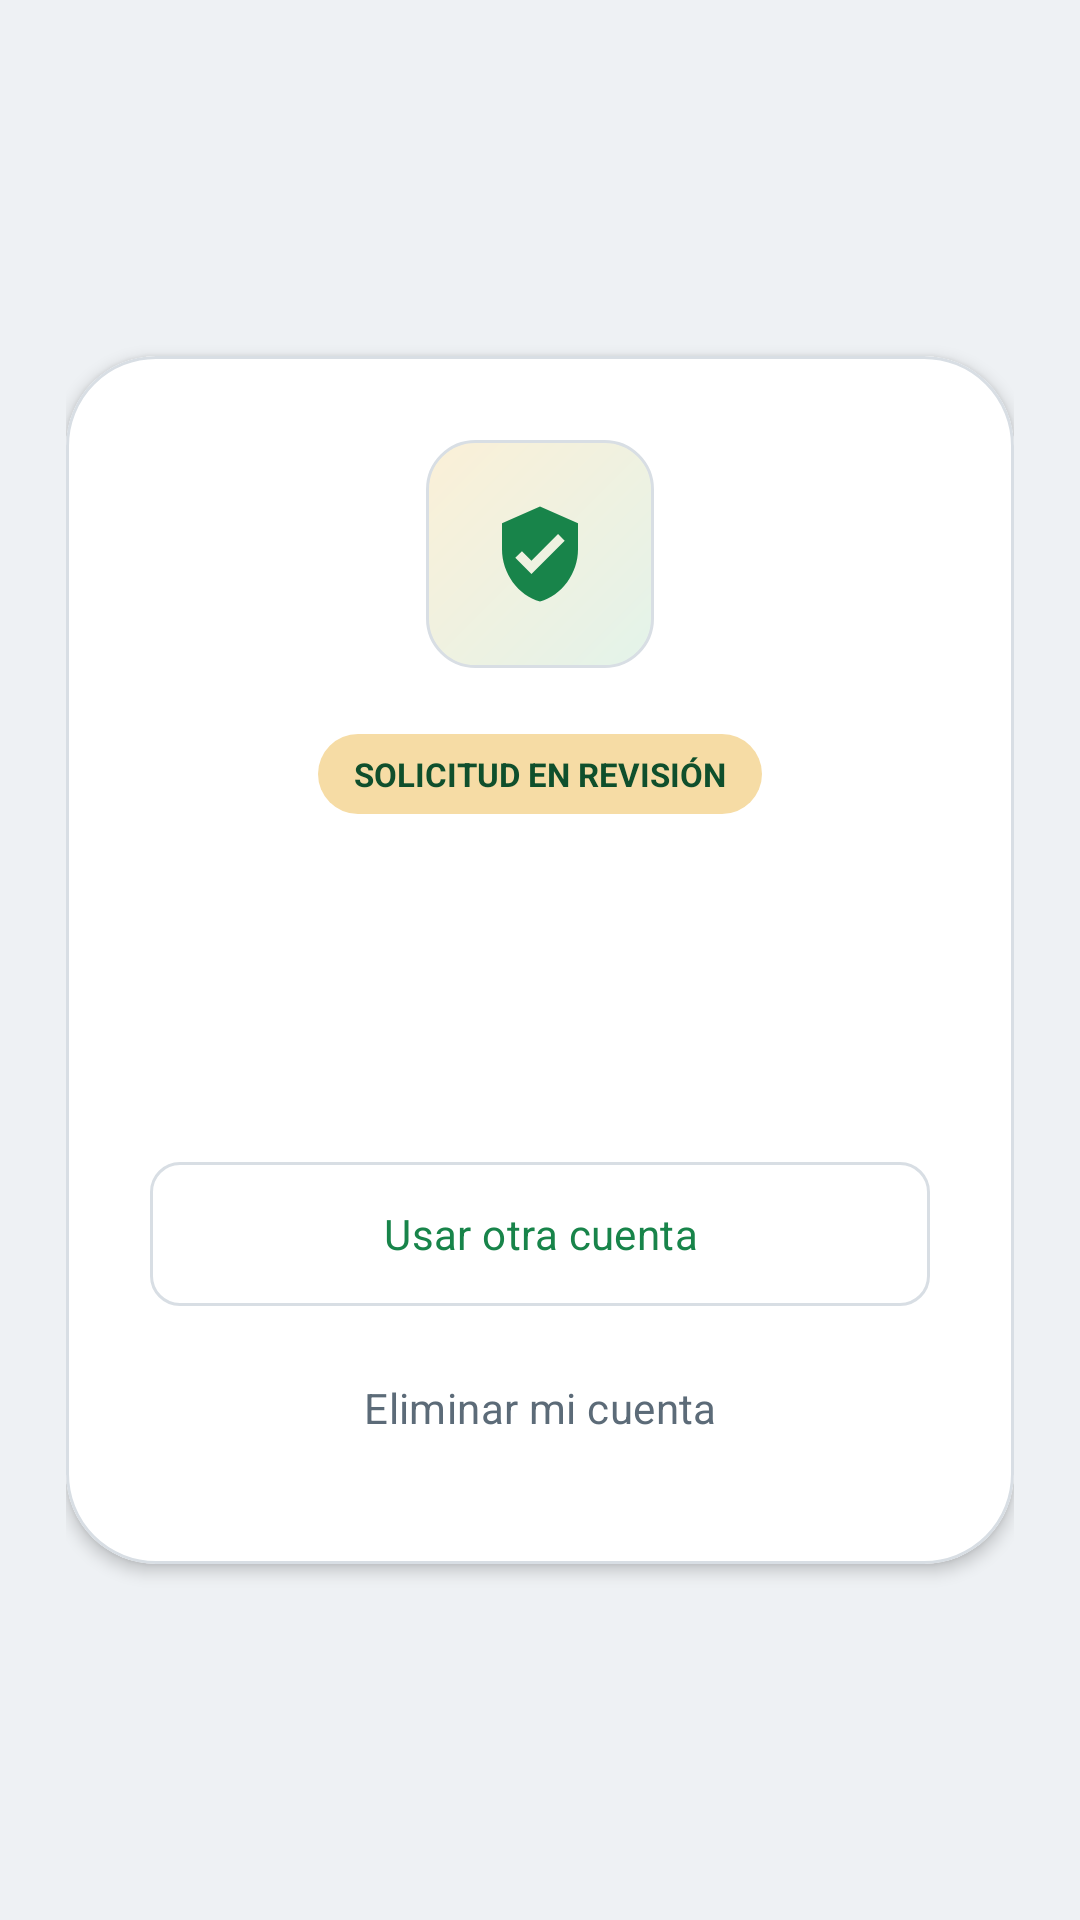

Icons on this 1080*1920 Android screen, each with its box as [x1, y1, x2, y2]:
shield check: [502, 506, 578, 602]
